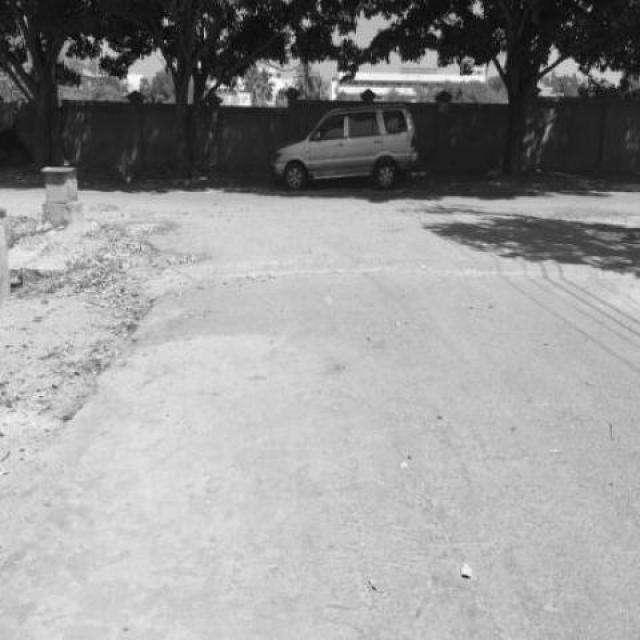Unmarked Bump: (145, 258, 600, 280)
